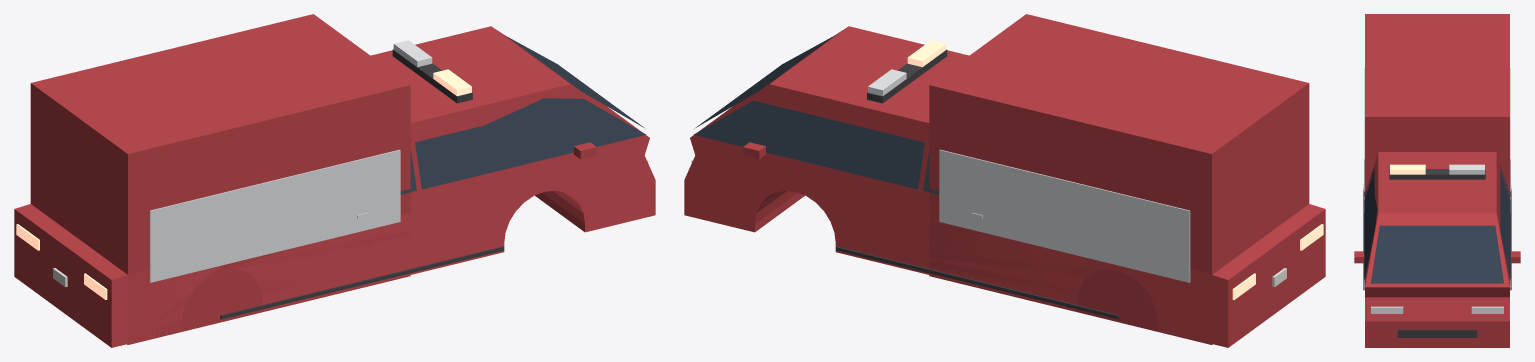
The model's file is SM_Veh_FireTruck.fbx.
The picture shows the model from 3 angles, left to right: view 1: azimuth 30°, elevation 25°; view 2: azimuth 150°, elevation 25°; view 3: azimuth 270°, elevation 25°; orthographic projection. The views are drawn at different scales.
Visible parts, largest first — view 1: SM_Veh_FireTruck; view 2: SM_Veh_FireTruck; view 3: SM_Veh_FireTruck.
Part boxes in pixels (x1,y1,x2,y2): SM_Veh_FireTruck: [14, 14, 655, 347]; SM_Veh_FireTruck: [684, 14, 1325, 347]; SM_Veh_FireTruck: [1354, 14, 1520, 347].
Bounding box in the file's own units: 768 × 270 × 255.
